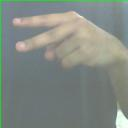hand: (12, 9, 121, 71)
